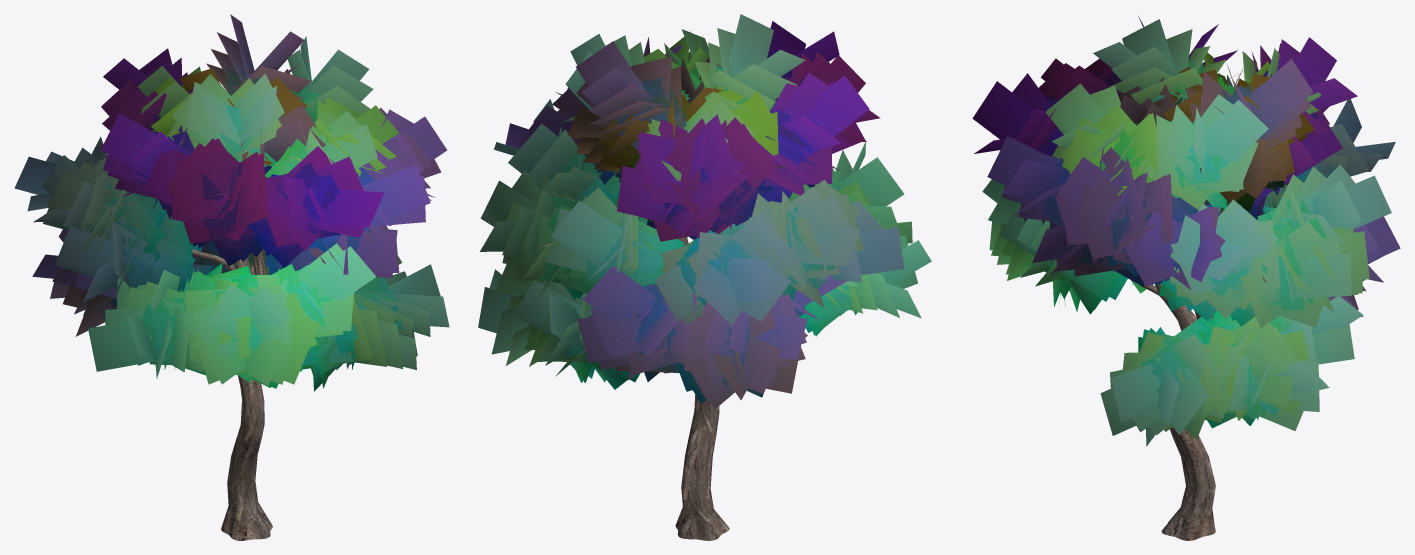
Rendered from CherryBlossom.fbx.
3 renders of one model, left to right at view 1: azimuth 30°, elevation 25°; view 2: azimuth 150°, elevation 25°; view 3: azimuth 270°, elevation 25°, orthographic. The views are drawn at different scales.
Visible parts, largest first — view 1: Tree_1, Tree_0; view 2: Tree_1, Tree_0; view 3: Tree_1, Tree_0.
Boxes of the visible parts, bbox=[...] form: Tree_1: bbox=[14, 14, 449, 391]; Tree_0: bbox=[188, 158, 272, 540]; Tree_1: bbox=[478, 14, 931, 409]; Tree_0: bbox=[541, 166, 786, 540]; Tree_1: bbox=[972, 16, 1400, 446]; Tree_0: bbox=[1115, 69, 1266, 540].
Bounding box in the file's own units: 298 × 367 × 301.
